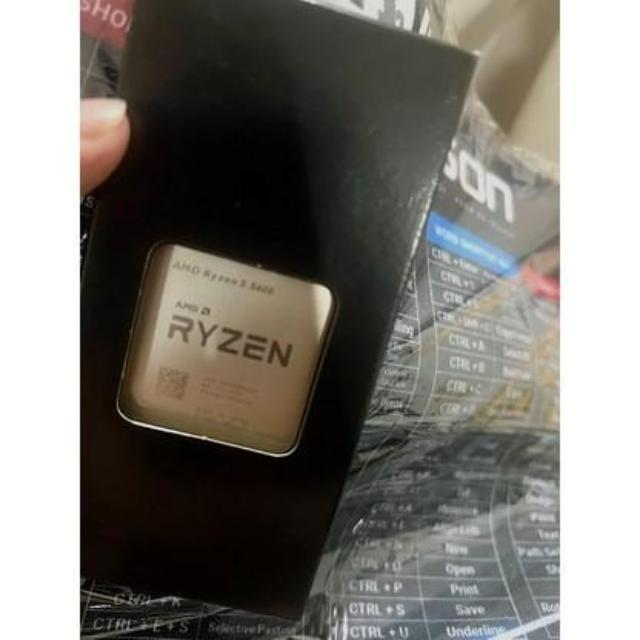CPU: (128, 244, 308, 462)
